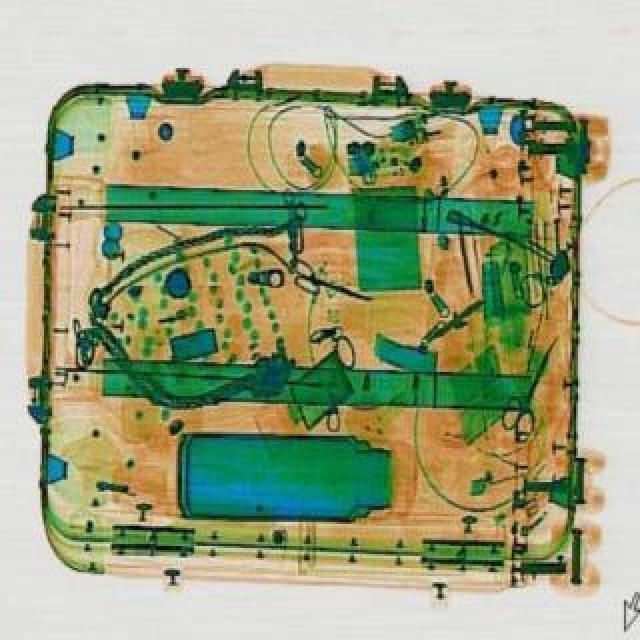pliers: (492, 334, 572, 452), (282, 262, 378, 320)
